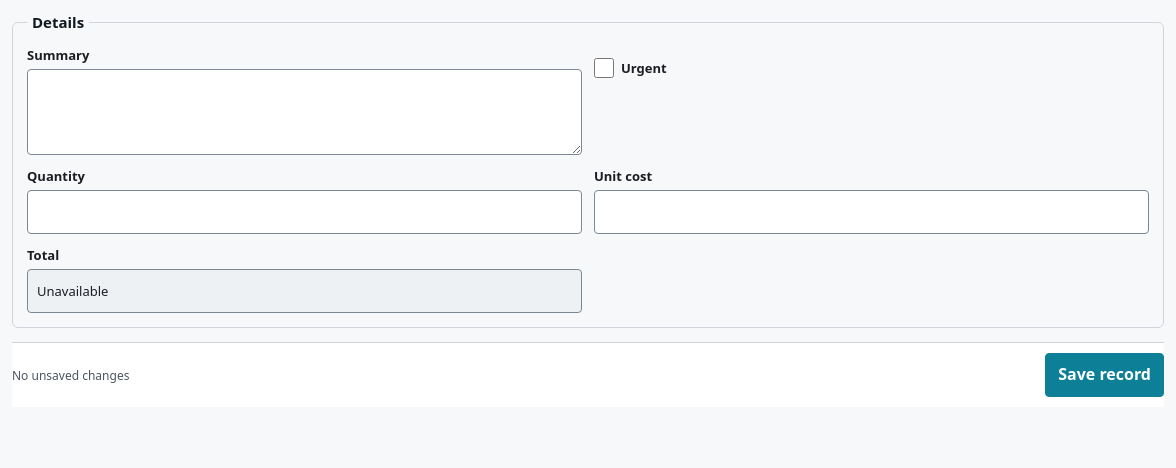
Test: draft hydration and submission truth › reports draft storage failures without losing current values
Type "Retained locally in state" into the text box labelled "Summary" at (304, 112), box [27,69,582,155]
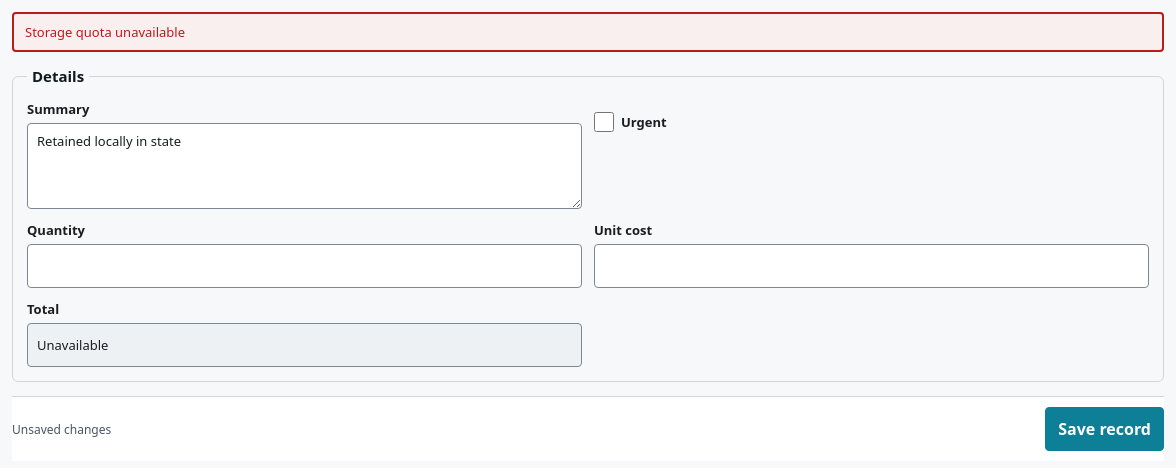
Result: the text "Storage quota unavailable" is shown at [12,12,1164,52]
